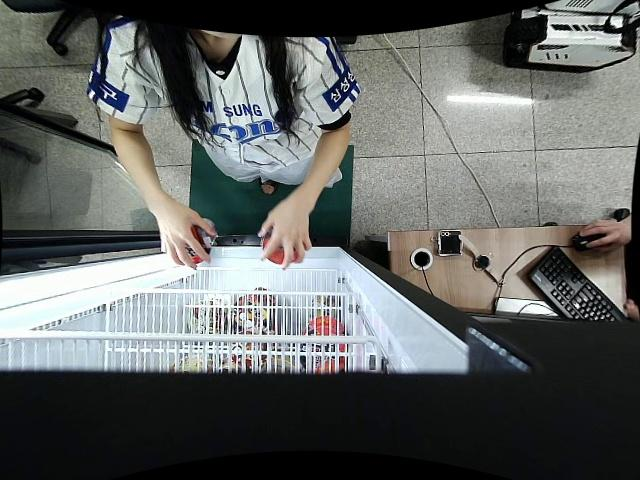00_hand: (157, 202, 219, 271), (256, 202, 313, 270), (579, 219, 631, 257)
02_shinRamen_S: (259, 227, 307, 266), (187, 219, 215, 263)
